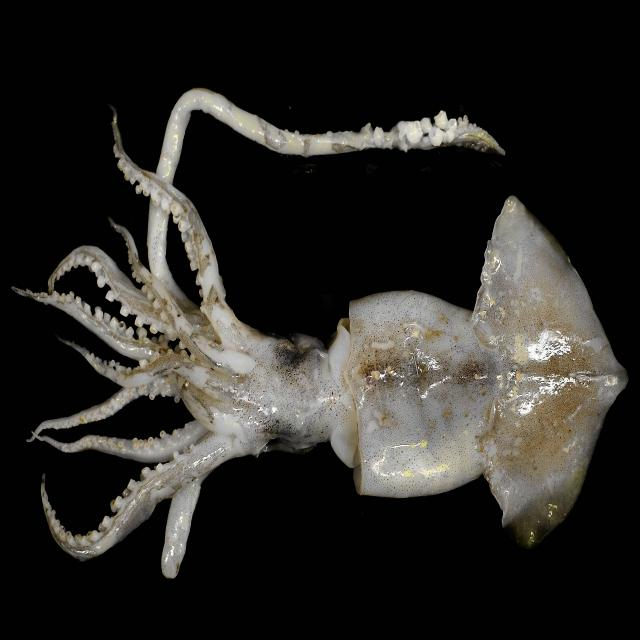SQUID: (22, 168, 626, 536)
